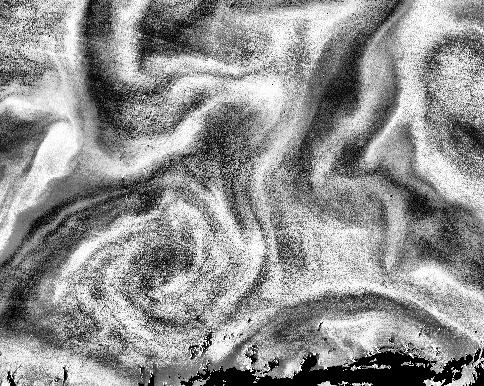AE: (20, 166, 256, 362)
